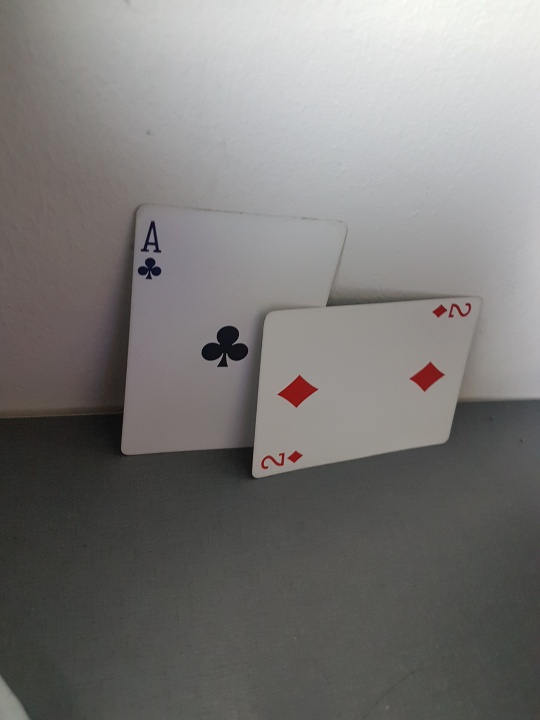2: (252, 292, 488, 481)
ace: (121, 202, 346, 454)
